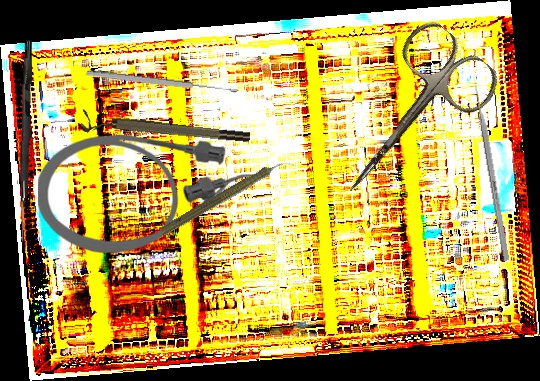Cannula: (38, 134, 258, 254)
Fixation Ring: (80, 108, 251, 153)
Handpiece: (158, 152, 296, 241)
Hook Surgical: (18, 39, 33, 243)
Iris Scissors: (308, 14, 508, 223)
Pusher: (470, 73, 511, 262)
Surgical Spoon: (85, 68, 239, 96)
